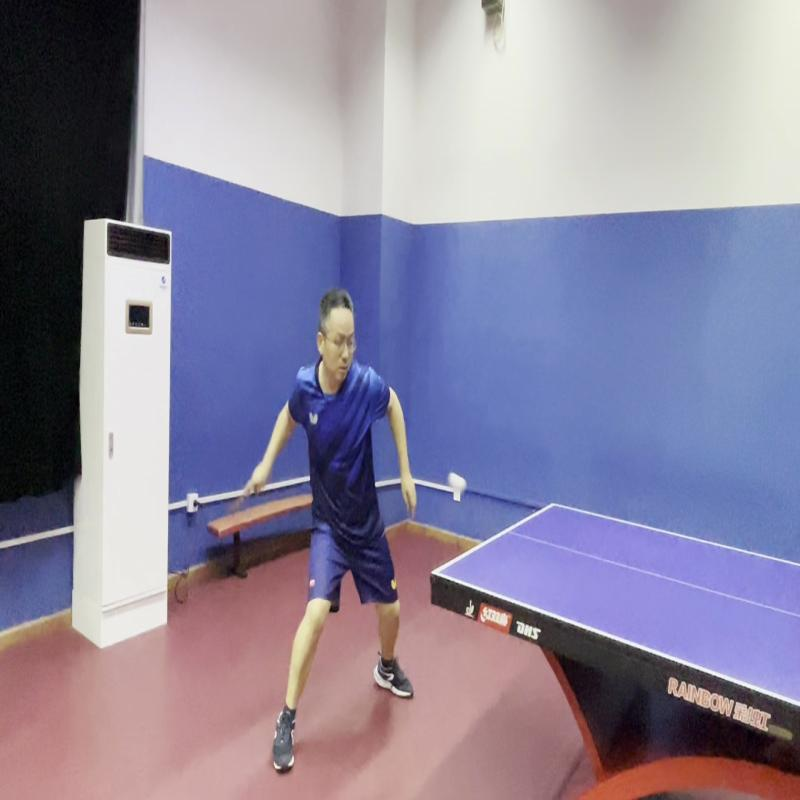bats: (230, 472, 258, 522)
